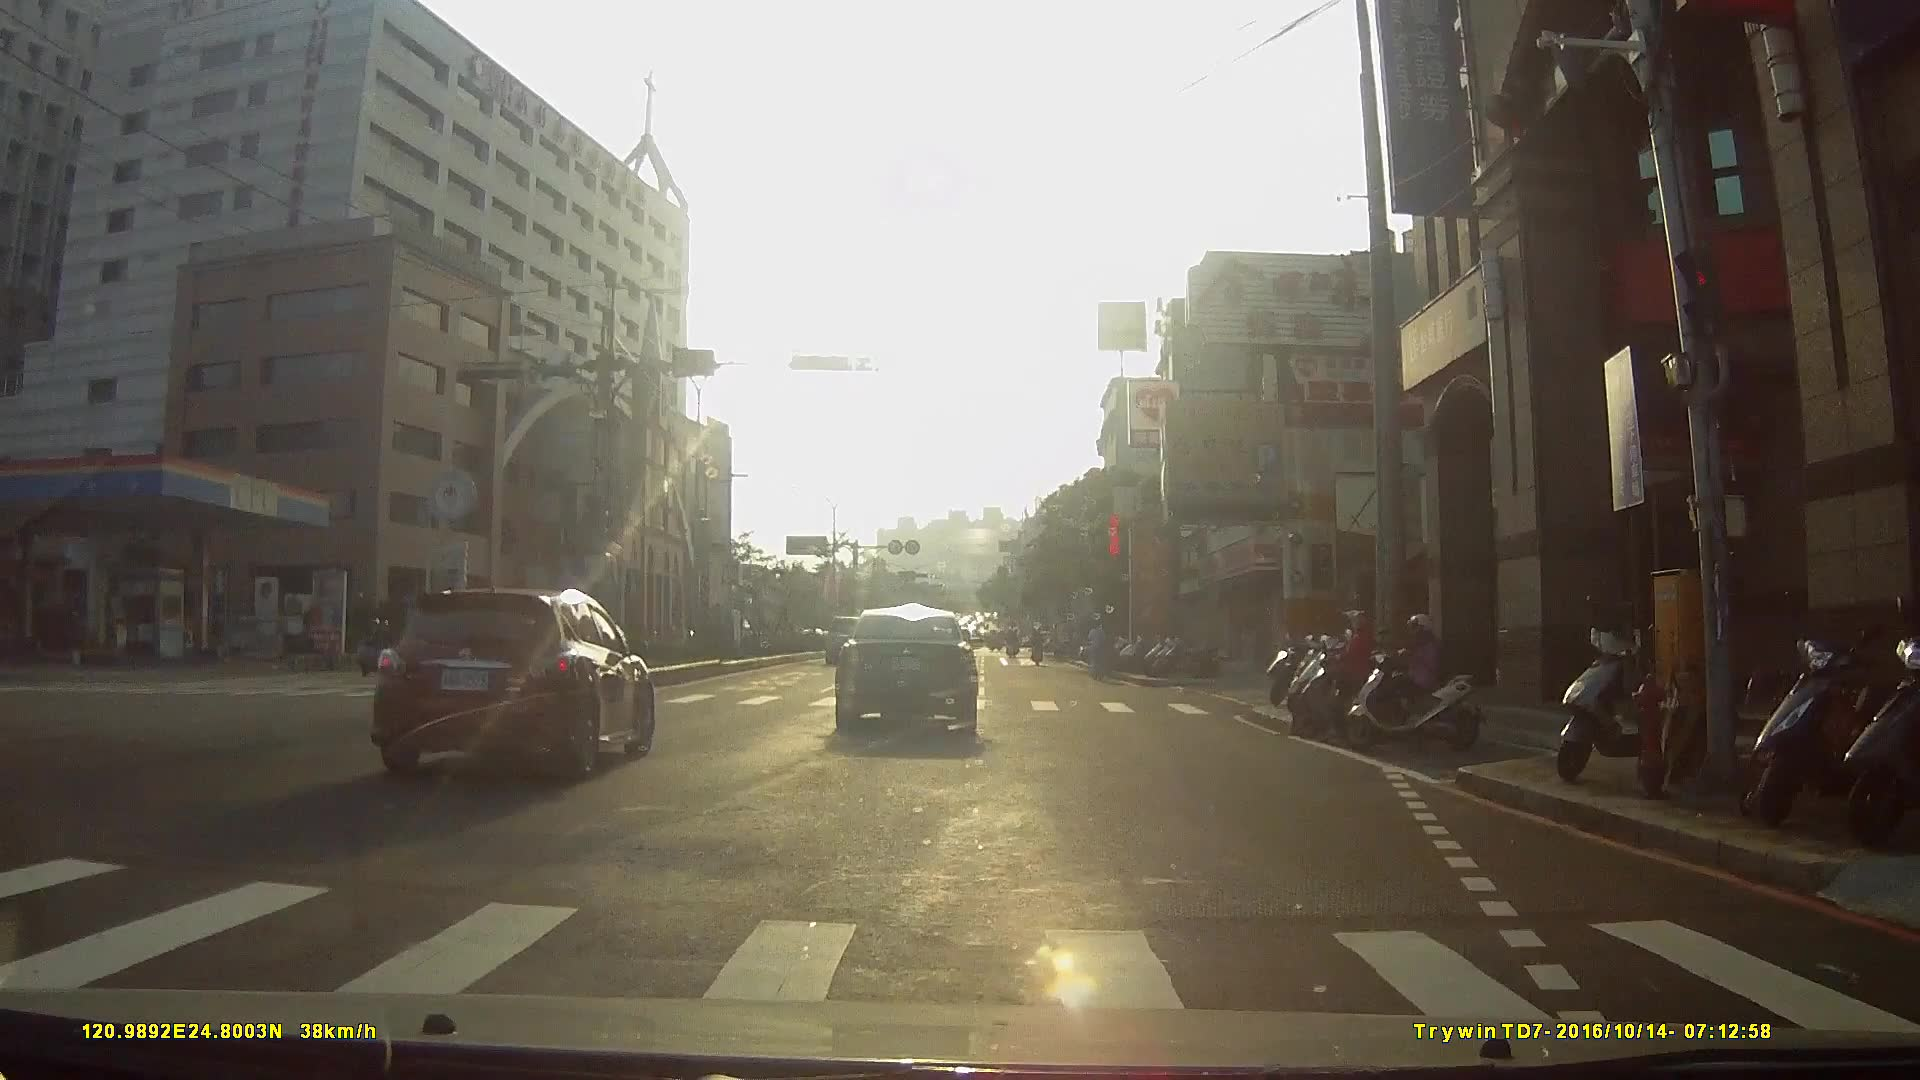rider: (1338, 604, 1488, 759), (1282, 607, 1398, 733), (356, 617, 397, 675)
vehicle: (369, 583, 664, 786), (838, 605, 999, 745), (763, 607, 822, 662)
